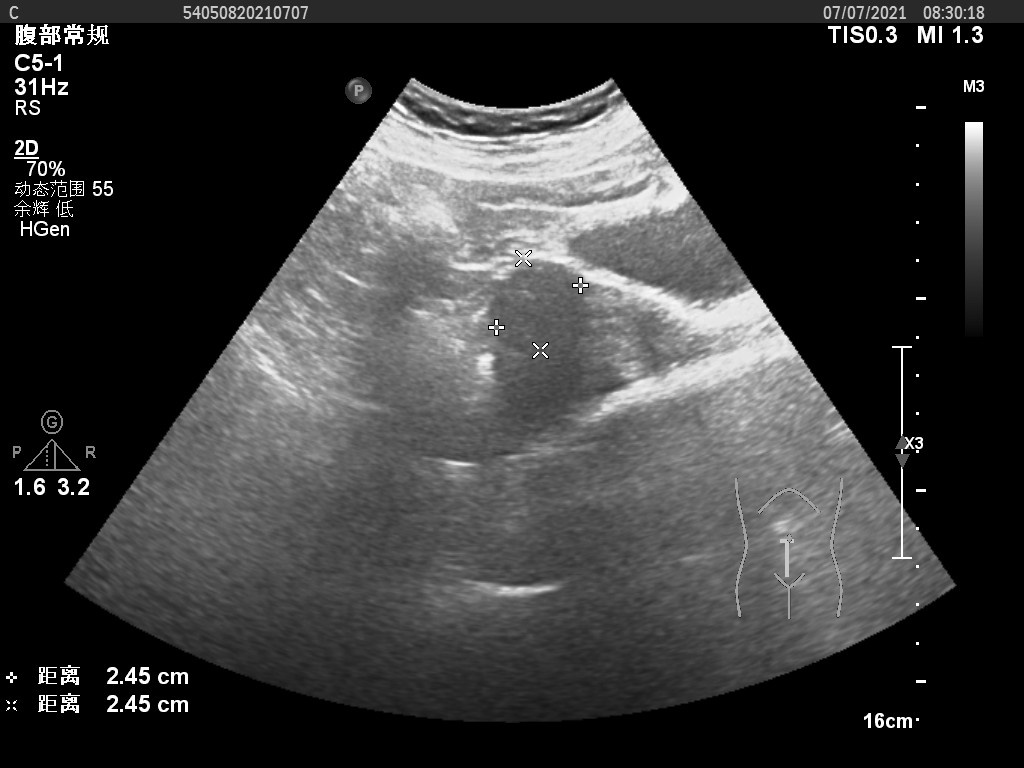肌瘤: (495, 259, 582, 352)
